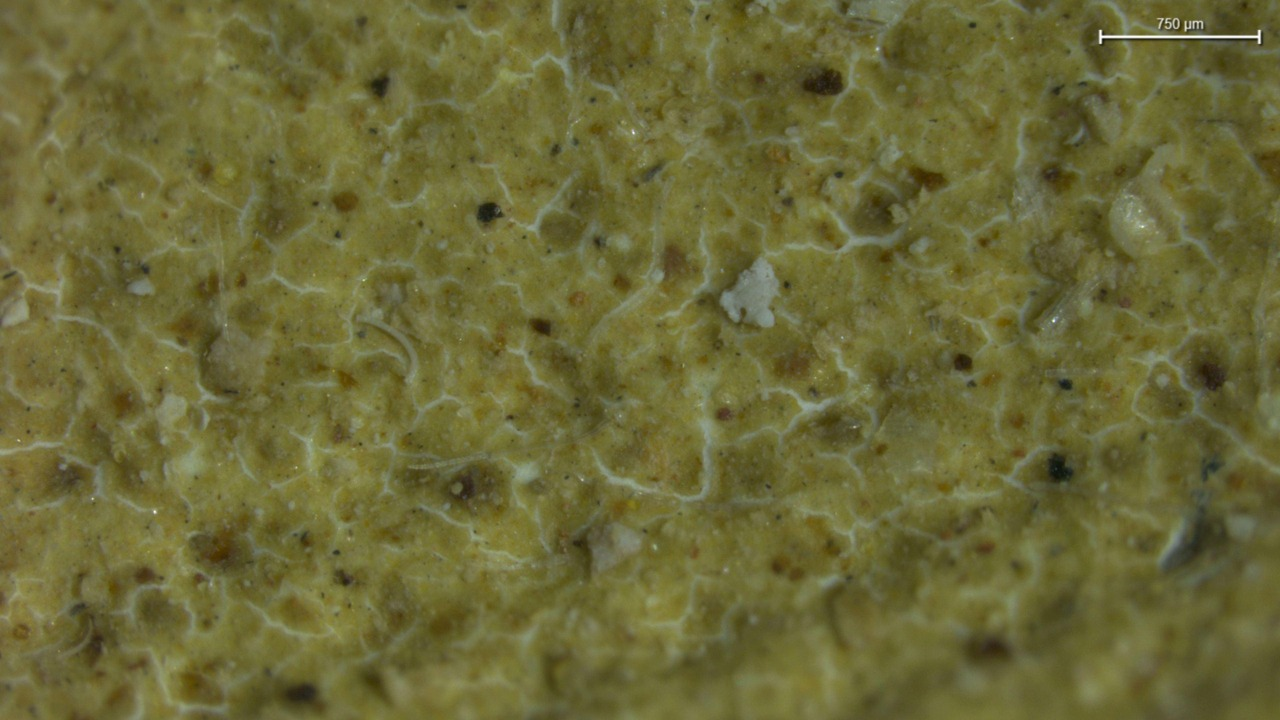microplastic_fragment: (719, 258, 780, 327), (203, 324, 264, 392), (586, 523, 641, 574)
